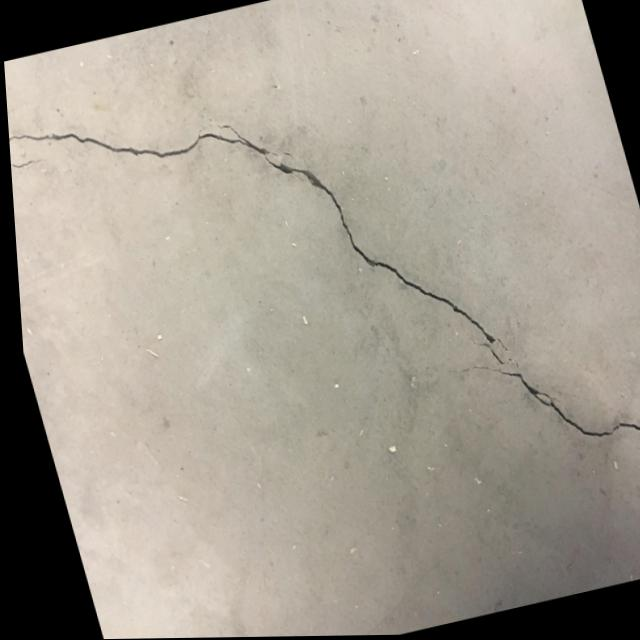Crack: (4, 71, 288, 216), (484, 331, 640, 484), (373, 237, 511, 386), (254, 135, 384, 290), (7, 136, 44, 185)
